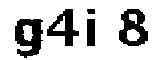4: (44, 9, 79, 48)
8: (112, 4, 152, 51)
g: (9, 11, 44, 60)
i: (83, 5, 101, 56)
